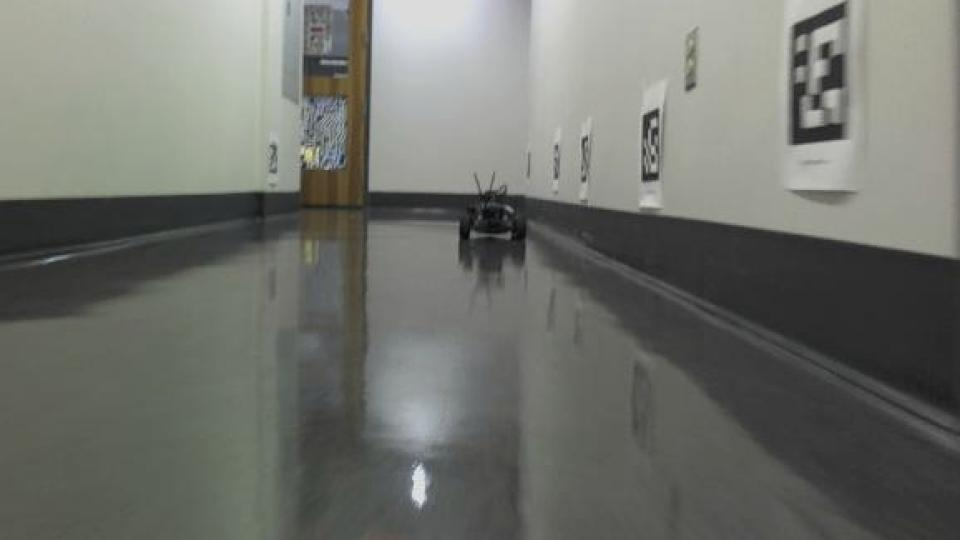car: (454, 168, 528, 248)
